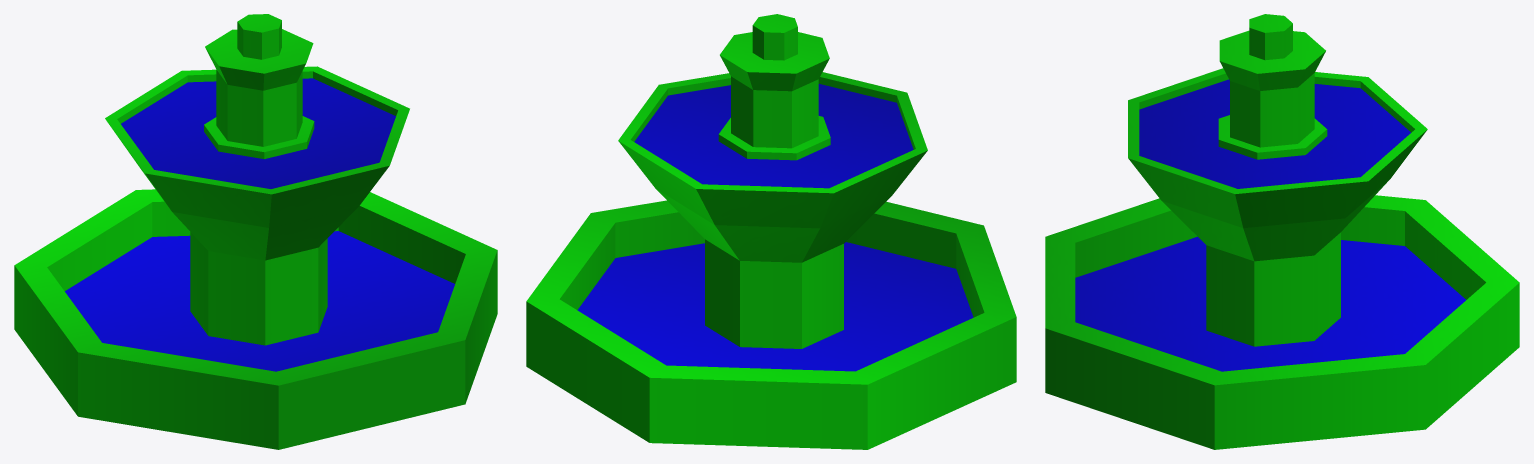
File: Fountain.fbx
3 renders of one model, left to right at view 1: azimuth 30°, elevation 25°; view 2: azimuth 150°, elevation 25°; view 3: azimuth 270°, elevation 25°, orthographic.
Visible parts, largest first — view 1: Fountain; view 2: Fountain; view 3: Fountain.
Part boxes in pixels (<box>): Fountain: <box>14,14,497,449</box>; Fountain: <box>526,14,1016,449</box>; Fountain: <box>1045,14,1519,449</box>.
Size of the model in its own units: 309 by 227 by 301.
